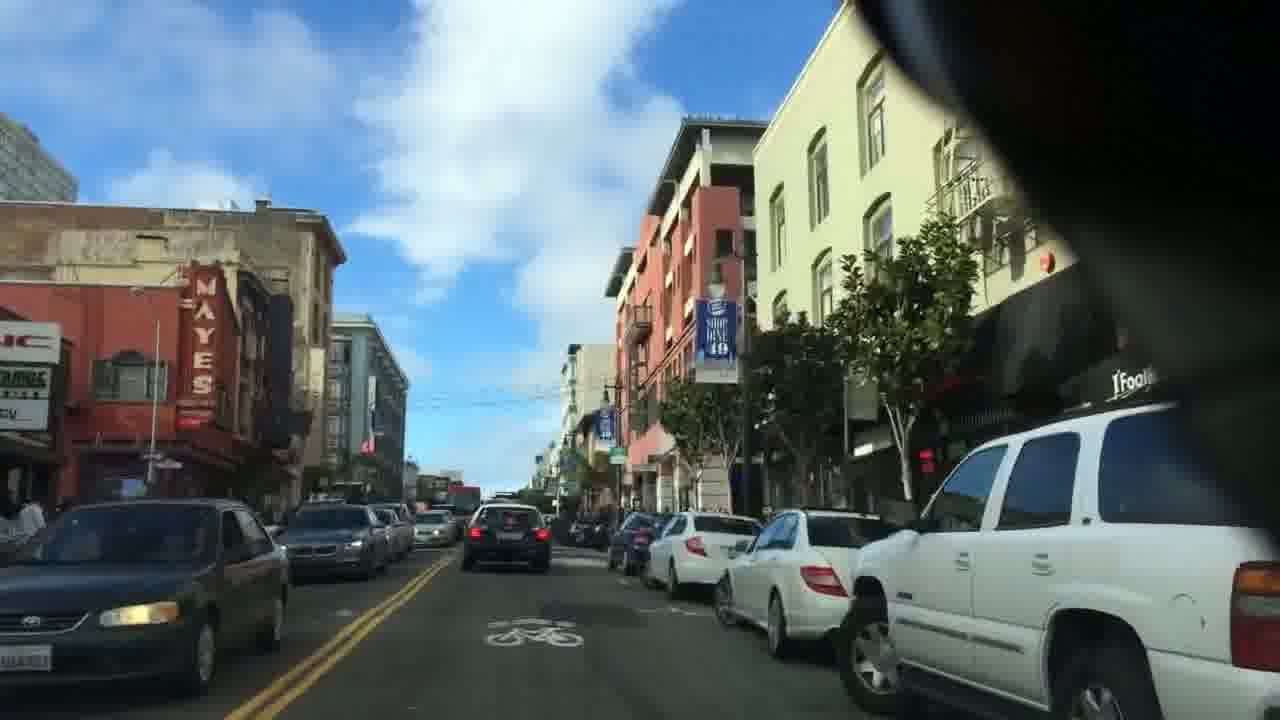car: (832, 398, 1279, 719), (0, 493, 290, 702), (713, 506, 880, 657), (638, 510, 765, 601), (285, 501, 392, 580), (461, 502, 551, 570), (606, 510, 670, 575), (411, 508, 457, 547)
